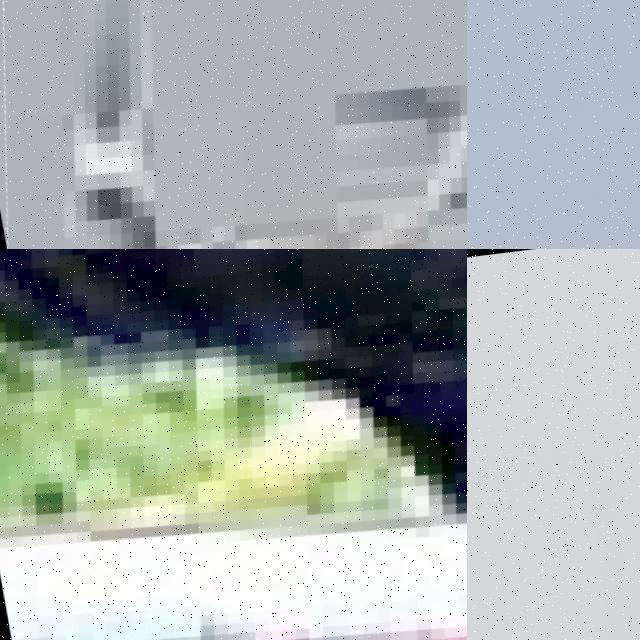0: (0, 0, 467, 249)
drone: (0, 249, 467, 640)
